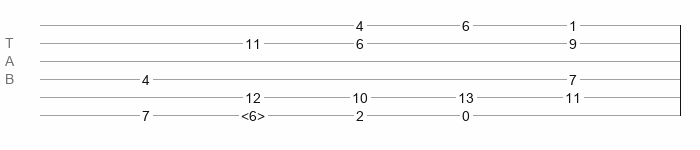0: (462, 108, 470, 118)
1: (569, 18, 577, 28)
10: (352, 90, 368, 100)
11: (245, 36, 261, 46), (565, 90, 581, 100)
12: (245, 90, 261, 100)
13: (458, 90, 474, 100)
2: (356, 108, 364, 118)
4: (142, 72, 150, 82), (356, 18, 364, 28)
6: (356, 36, 364, 46), (462, 18, 470, 28)
7: (142, 108, 150, 118), (569, 72, 577, 82)
9: (569, 36, 577, 46)
harmonic: (241, 108, 265, 118)
